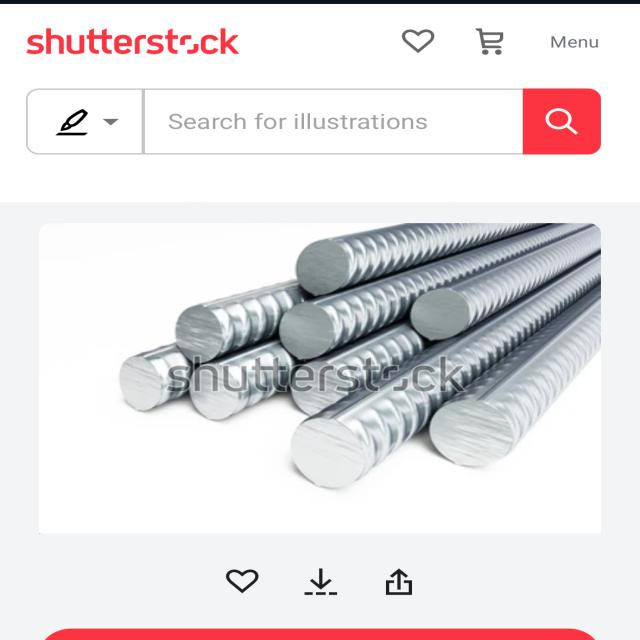Rebar: (292, 411, 371, 489), (429, 404, 510, 470), (183, 363, 247, 424), (295, 239, 361, 297), (175, 298, 227, 365), (287, 359, 348, 416), (117, 355, 172, 415), (281, 301, 339, 353), (405, 298, 467, 342)
